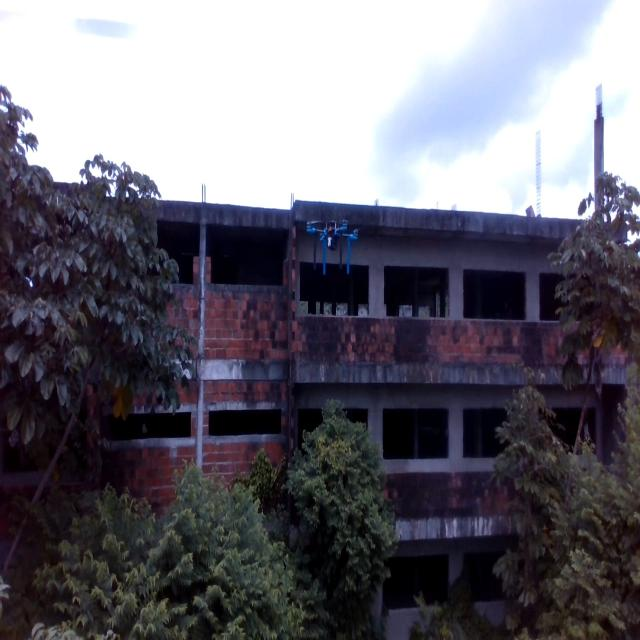-uav-: (301, 204, 366, 280)
